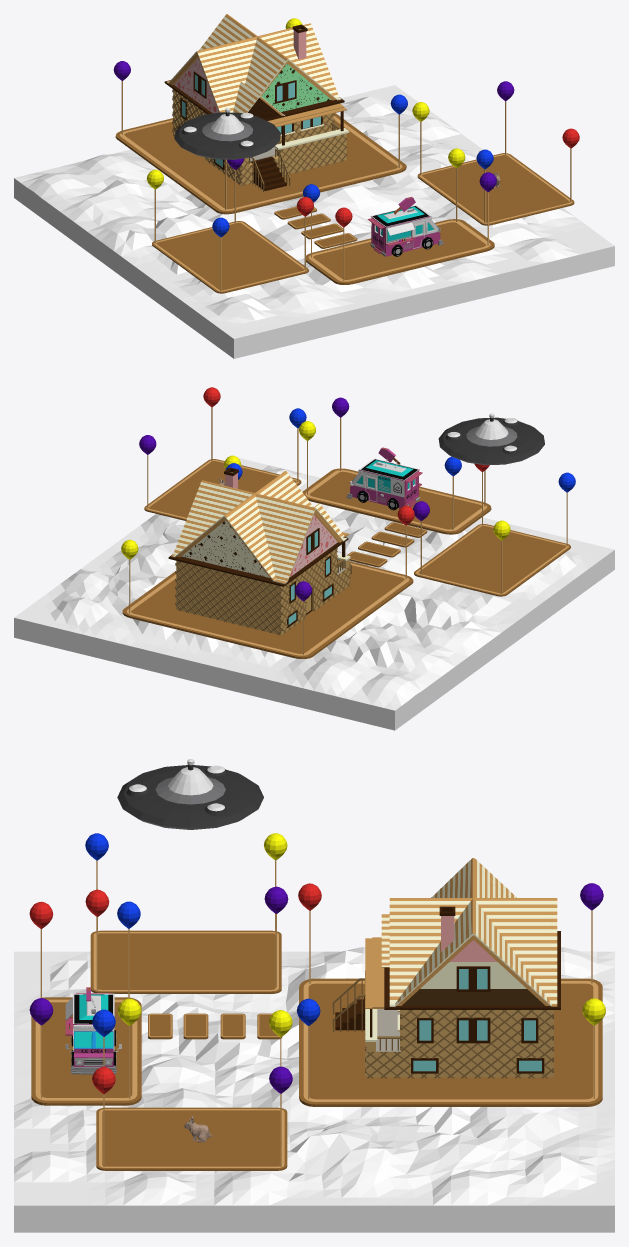
3 renders of one model, top to bottom at view 1: azimuth 30°, elevation 25°; view 2: azimuth 150°, elevation 25°; view 3: azimuth 270°, elevation 25°, orthographic. The views are drawn at different scales.
Visible parts, largest first — view 1: Cube.013, Cube.1102, OBJRANDOM_UFO, VEHICLES_ICE_CREAM_TRUCK; view 2: Cube.013, Cube.1102, OBJRANDOM_UFO, VEHICLES_ICE_CREAM_TRUCK; view 3: Cube.013, Cube.1102, OBJRANDOM_UFO, VEHICLES_ICE_CREAM_TRUCK.
Part boxes in pixels (x1=…): Cube.013: x1=14, y1=18, x2=614, y2=358; Cube.1102: x1=164, y1=14, x2=349, y2=192; OBJRANDOM_UFO: x1=174, y1=108, x2=280, y2=159; VEHICLES_ICE_CREAM_TRUCK: x1=367, y1=197, x2=443, y2=256; Cube.013: x1=14, y1=387, x2=614, y2=730; Cube.1102: x1=168, y1=467, x2=351, y2=635; OBJRANDOM_UFO: x1=438, y1=413, x2=544, y2=465; VEHICLES_ICE_CREAM_TRUCK: x1=346, y1=447, x2=422, y2=510; Cube.013: x1=14, y1=833, x2=614, y2=1232; Cube.1102: x1=332, y1=858, x2=560, y2=1078; OBJRANDOM_UFO: x1=117, y1=759, x2=263, y2=829; VEHICLES_ICE_CREAM_TRUCK: x1=65, y1=987, x2=121, y2=1074.
Bounding box in the file's own units: 4000 × 1982 × 4000.
40 materials, 2 textured.
